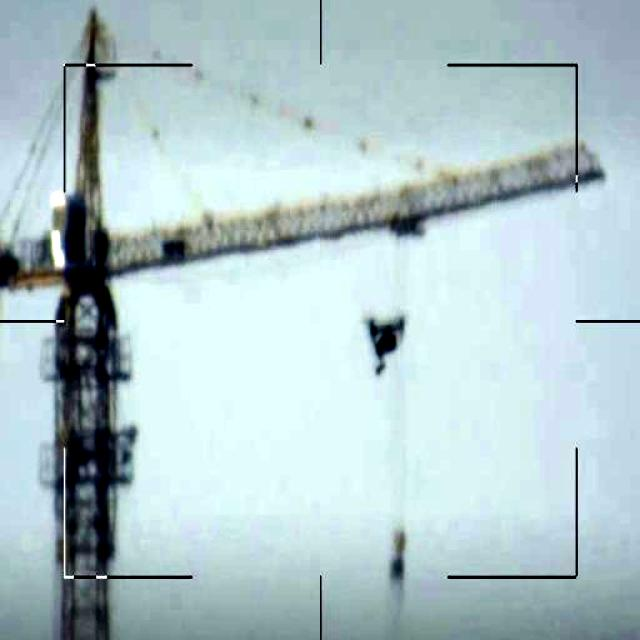bird: (358, 308, 410, 375)
